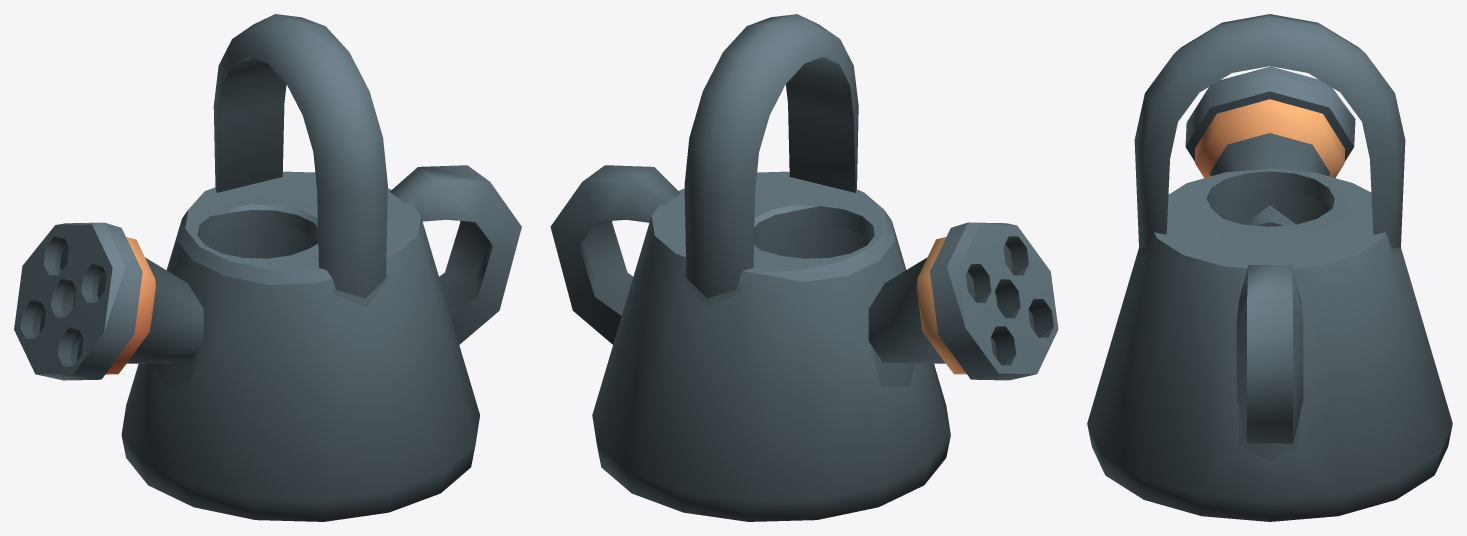
Rendered from wateringcan_005.glb.
3 renders of one model, left to right at view 1: azimuth 30°, elevation 25°; view 2: azimuth 150°, elevation 25°; view 3: azimuth 270°, elevation 25°, orthographic.
Parts seen in each view (by area): view 1: wateringcan.005; view 2: wateringcan.005; view 3: wateringcan.005.
Boxes of the visible parts, x1,y1,x2,y2 form: wateringcan.005: [14, 14, 521, 521]; wateringcan.005: [550, 14, 1058, 521]; wateringcan.005: [1087, 14, 1452, 521].
Size of the model in its own units: 1.03 by 0.9026 by 0.6817.
1 material, 1 textured.
